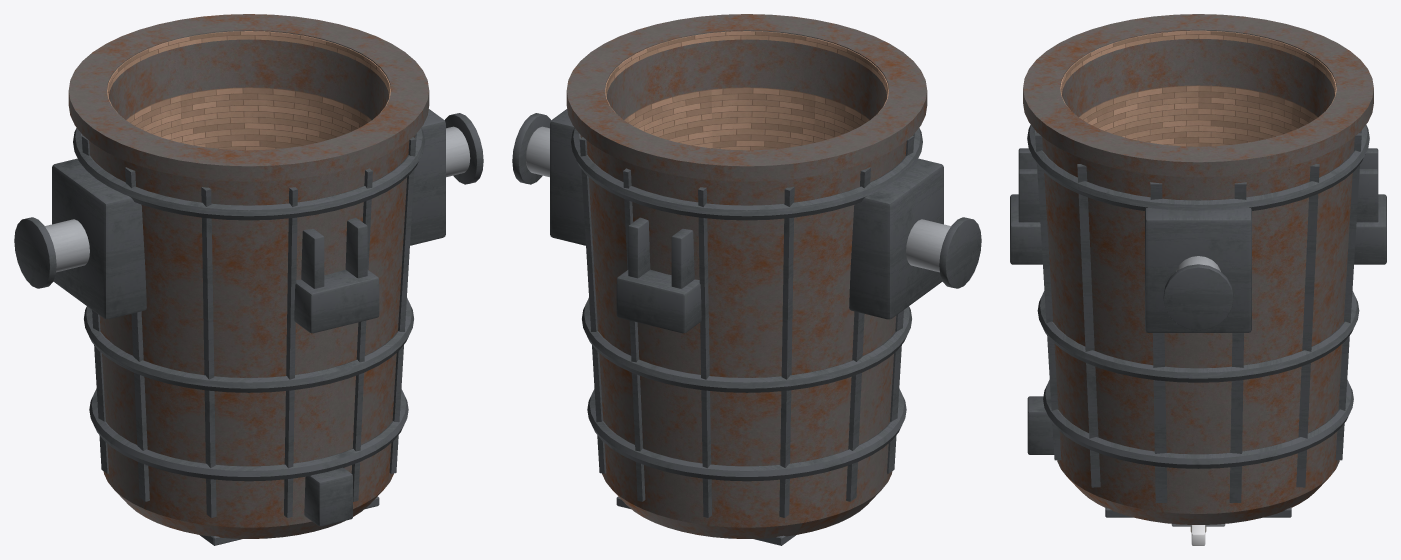
The model's file is ladle.glb.
The picture shows the model from 3 angles, left to right: view 1: azimuth 30°, elevation 25°; view 2: azimuth 150°, elevation 25°; view 3: azimuth 270°, elevation 25°; orthographic projection. The views are drawn at different scales.
Parts seen in each view (by area): view 1: Ladle_geo; view 2: Ladle_geo; view 3: Ladle_geo.
Part boxes in pixels (left/top/right/bottom): Ladle_geo: left=14, top=14, right=483, bottom=545; Ladle_geo: left=512, top=14, right=981, bottom=545; Ladle_geo: left=1010, top=14, right=1386, bottom=545.
Bounding box in the file's own units: 5 × 4.75 × 3.87.
Materials: 7 (5 with a texture image).
